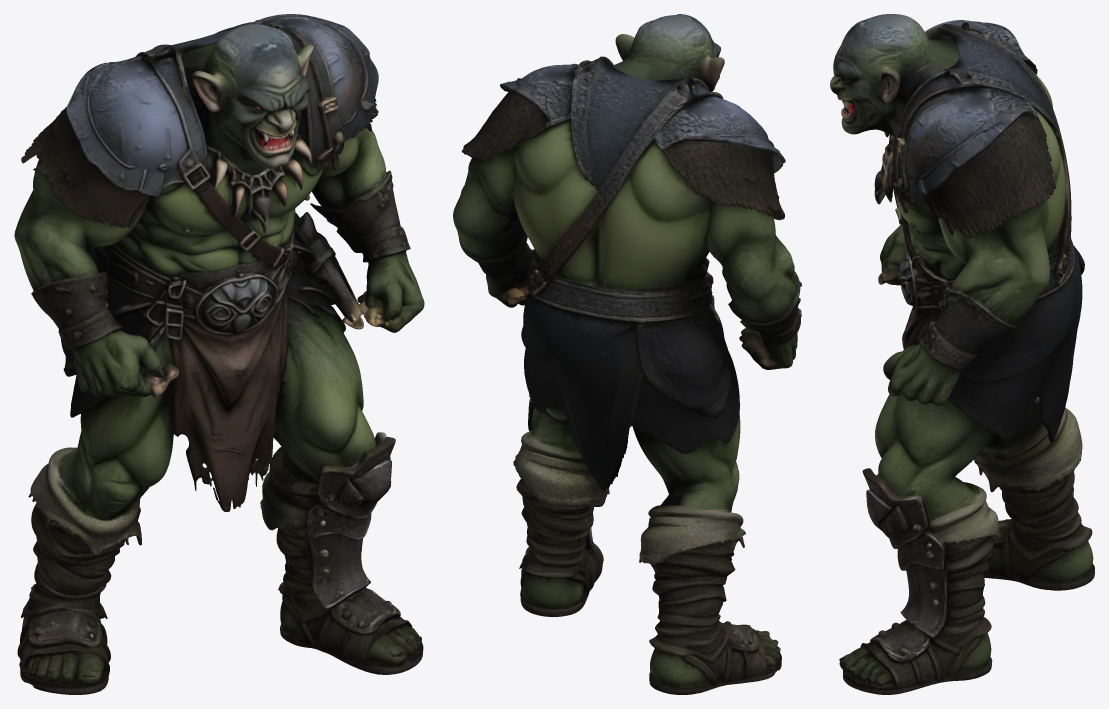
File: orc.glb
The picture shows the model from 3 angles, left to right: view 1: azimuth 30°, elevation 25°; view 2: azimuth 150°, elevation 25°; view 3: azimuth 270°, elevation 25°; orthographic projection. The views are drawn at different scales.
Visible parts, largest first — view 1: material; view 2: material; view 3: material.
Part boxes in pixels (x1,y1,x2,y2): material: (14, 14, 424, 694); material: (453, 14, 801, 694); material: (830, 14, 1094, 694).
Bounding box in the file's own units: 0.6071 × 1.05 × 0.4142.
Materials: 1 (1 with a texture image).
